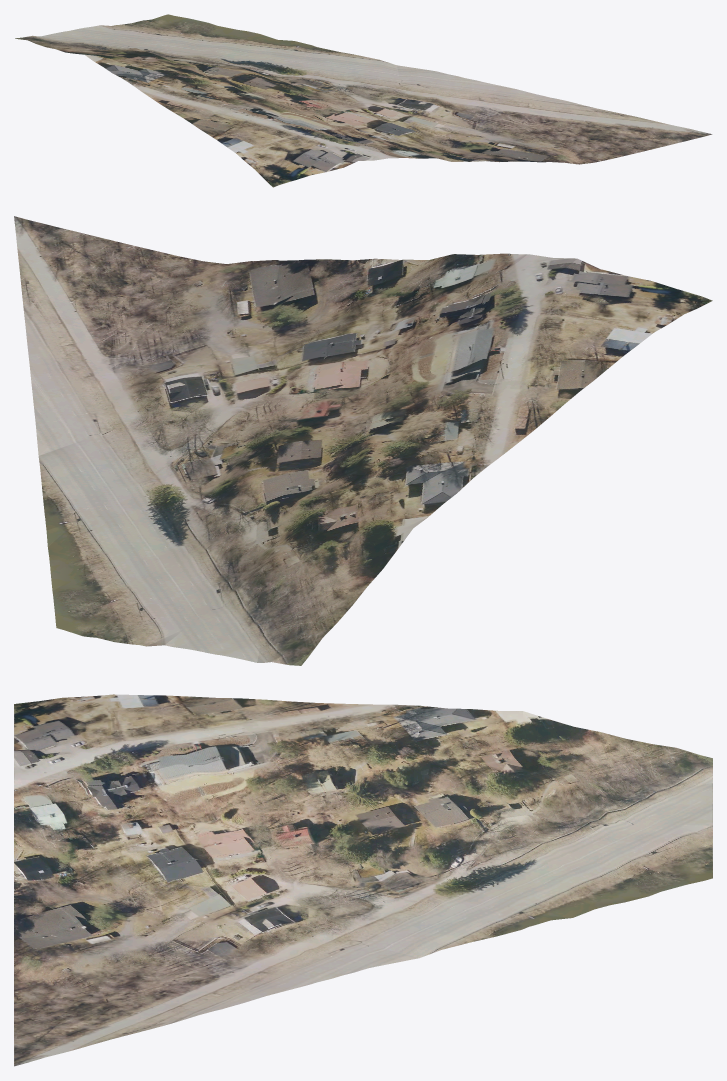
The model's file is CM_Terrain_24492302_6818975.fbx.
3 renders of one model, top to bottom at view 1: azimuth 30°, elevation 25°; view 2: azimuth 150°, elevation 25°; view 3: azimuth 270°, elevation 25°, orthographic. The views are drawn at different scales.
Parts seen in each view (by area): view 1: CM_Terrain_24492302_6818975_LOD0; view 2: CM_Terrain_24492302_6818975_LOD0; view 3: CM_Terrain_24492302_6818975_LOD0.
Boxes of the visible parts, x1=… form: CM_Terrain_24492302_6818975_LOD0: x1=15, y1=14, x2=712, y2=187; CM_Terrain_24492302_6818975_LOD0: x1=14, y1=216, x2=712, y2=665; CM_Terrain_24492302_6818975_LOD0: x1=14, y1=694, x2=712, y2=1066.
Size of what is drawn, in the model's own units: 201 by 27.57 by 205.
